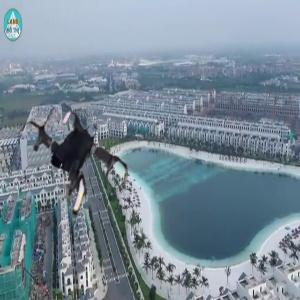drone: (5, 102, 134, 231)
